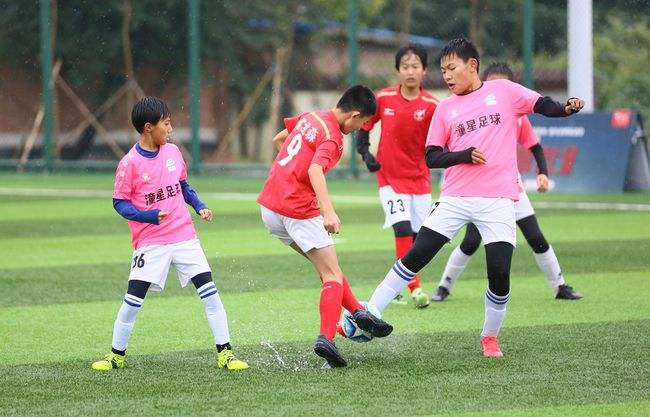football: (342, 301, 382, 342)
